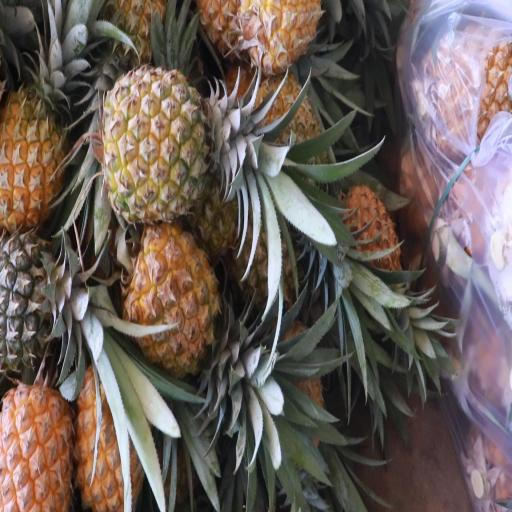Pineapple - v8 v1: (98, 67, 262, 217), (126, 219, 230, 403), (0, 47, 86, 230), (74, 348, 146, 512), (0, 359, 74, 512)
